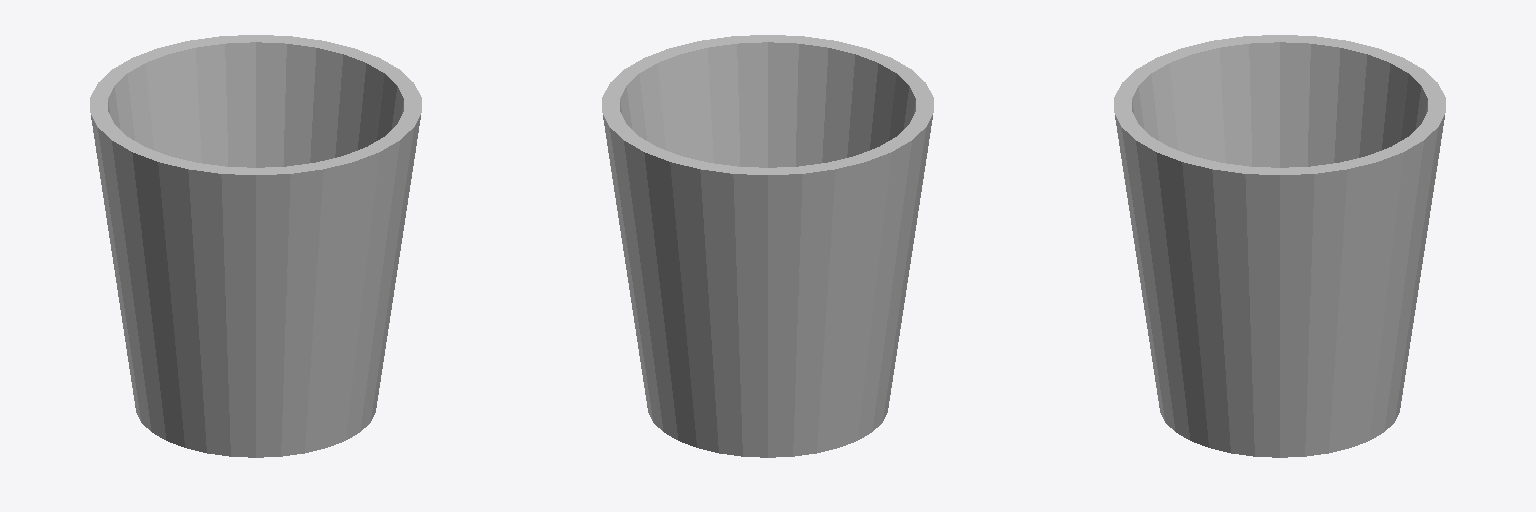
The model's file is cup.obj.
3 renders of one model, left to right at view 1: azimuth 30°, elevation 25°; view 2: azimuth 150°, elevation 25°; view 3: azimuth 270°, elevation 25°, orthographic.
Visible parts, largest first — view 1: cup; view 2: cup; view 3: cup.
Boxes of the visible parts, x1=… form: cup: x1=90, y1=35, x2=421, y2=457; cup: x1=602, y1=35, x2=933, y2=457; cup: x1=1114, y1=35, x2=1445, y2=457.
Bounding box in the file's own units: 0.5 × 0.5 × 0.4973.